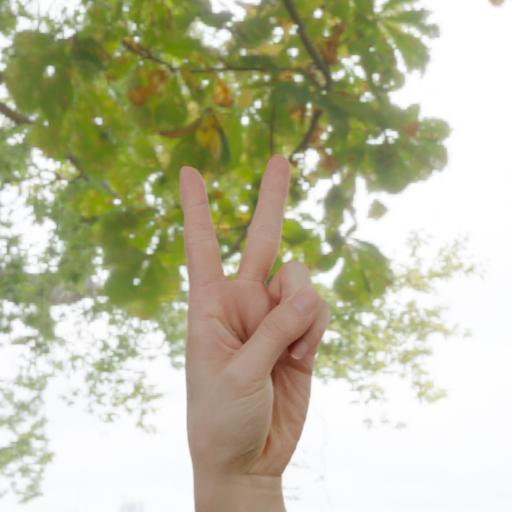V: (148, 129, 354, 474)
